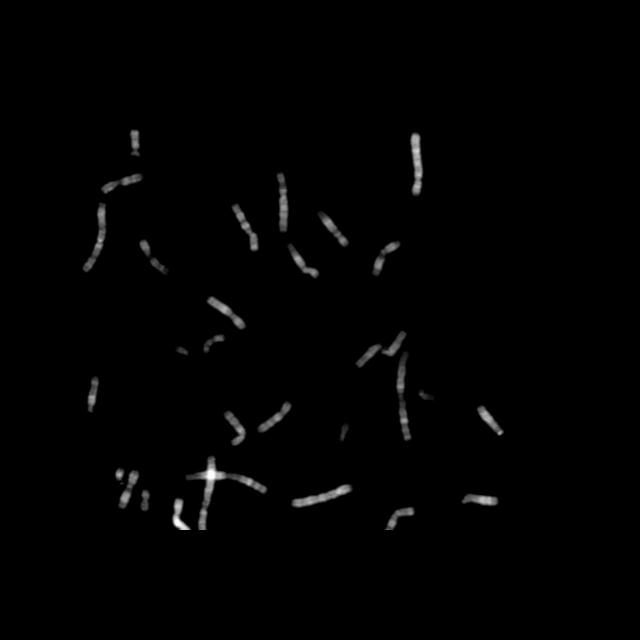chromosome: (186, 471, 266, 494), (81, 203, 105, 271), (293, 483, 352, 507), (207, 296, 245, 330), (198, 455, 215, 529), (232, 203, 258, 250), (396, 352, 409, 440), (317, 211, 348, 247), (287, 243, 318, 279), (258, 402, 292, 432), (372, 242, 400, 276), (139, 240, 165, 276), (102, 173, 143, 193), (478, 405, 504, 435), (119, 470, 139, 508), (386, 506, 414, 530), (227, 412, 246, 446), (380, 330, 404, 356), (412, 133, 422, 194), (278, 172, 288, 232), (173, 498, 191, 530), (356, 344, 380, 366), (461, 494, 497, 508), (87, 378, 99, 410), (204, 334, 223, 354), (131, 130, 141, 156), (140, 491, 150, 512), (338, 423, 348, 443), (175, 346, 189, 358), (116, 469, 124, 483), (420, 390, 430, 400)
